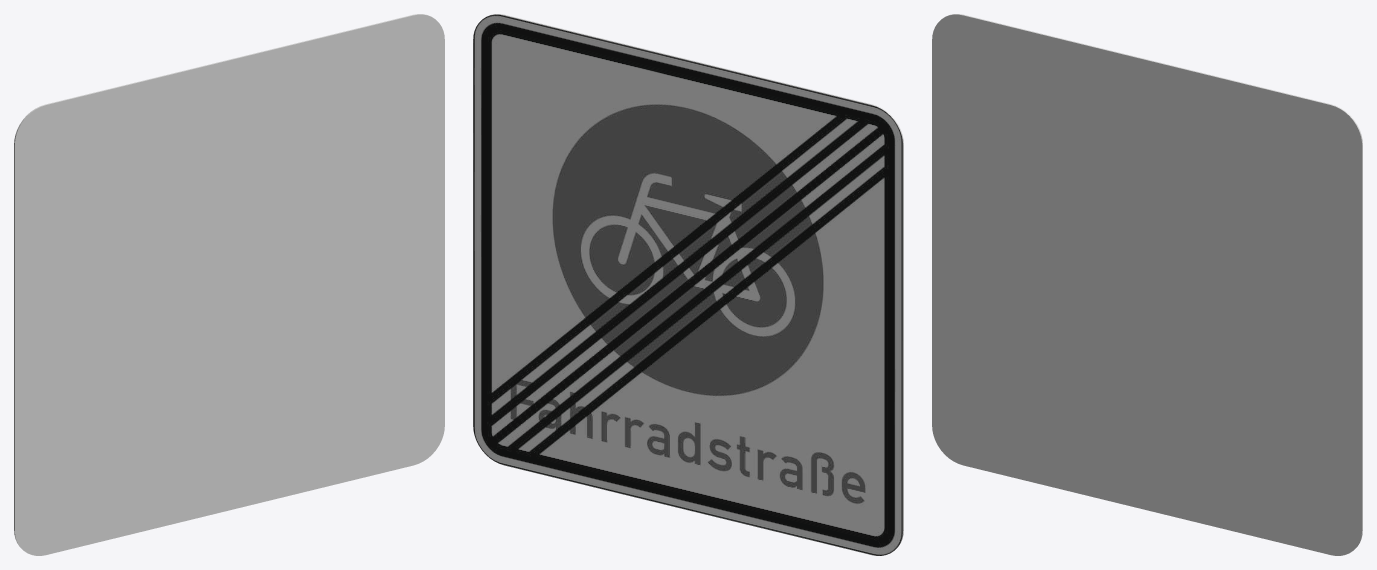
The picture shows the model from 3 angles, left to right: view 1: azimuth 30°, elevation 25°; view 2: azimuth 150°, elevation 25°; view 3: azimuth 330°, elevation 25°; orthographic projection.
Visible parts, largest first — view 1: Plane; view 2: Plane; view 3: Plane.
Part boxes in pixels (x1,y1,x2,y2): Plane: [14, 14, 444, 555]; Plane: [473, 14, 903, 555]; Plane: [932, 14, 1362, 555].
Size of the model in its own units: 0.6 by 0.6 by 0.002.
Materials: 2 (1 with a texture image).
